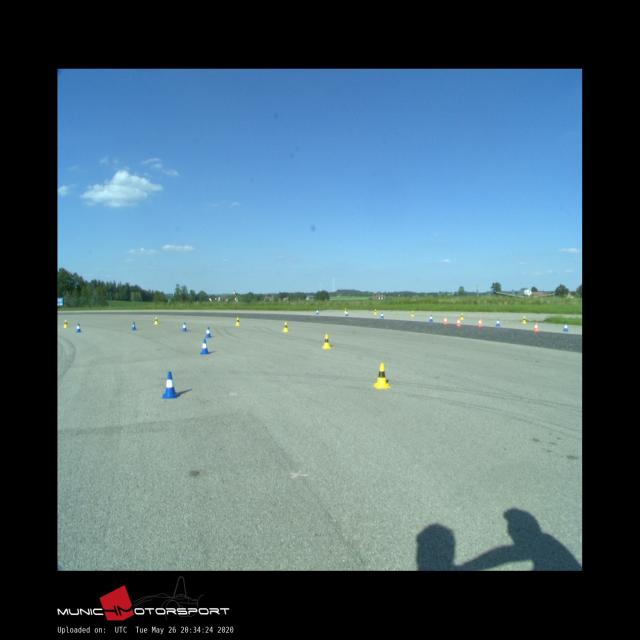blue_cone: (162, 372, 180, 398), (199, 339, 209, 354), (204, 327, 212, 338), (563, 322, 568, 332), (76, 323, 81, 332), (131, 321, 136, 330), (182, 322, 187, 331), (429, 314, 433, 322), (496, 318, 500, 326), (380, 312, 384, 318), (345, 311, 349, 316), (316, 309, 319, 314)
orange_cone: (534, 322, 539, 331), (443, 316, 448, 324), (457, 318, 461, 326), (478, 318, 482, 326)
yellow_cone: (373, 363, 391, 388), (322, 335, 332, 348), (282, 322, 289, 332), (235, 317, 240, 325), (64, 320, 68, 327), (154, 317, 158, 324), (460, 313, 464, 320), (522, 316, 526, 323), (411, 310, 414, 317), (374, 309, 377, 315), (344, 308, 347, 313)
